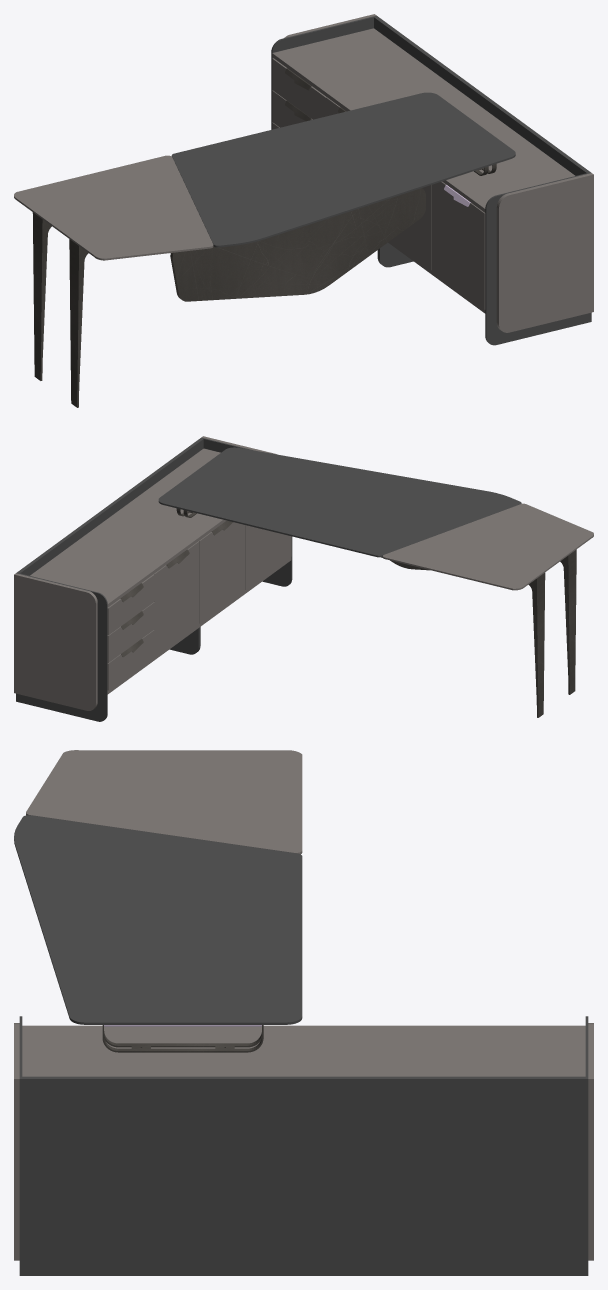
File: cortemasa3d.glb
3 views of the same model, one above another, from view 1: azimuth 30°, elevation 25°; view 2: azimuth 150°, elevation 25°; view 3: azimuth 270°, elevation 25° (orthographic). The views are drawn at different scales.
Visible parts, largest first — view 1: Componen48, Componen42, Componen03, Componen32, Componen47, Componen08, Componen04, Componen02, Componen37, Componen40, Componen31, Componen10 (+3 smaller); view 2: Componen48, Componen32, Componen01, Componen47, Componen10, Componen09, Componen04, Component_, Componen08, Componen37, Componen40, Componen31 (+5 smaller); view 3: Componen04, Componen48, Componen32, Componen47, Componen35, Componen03, Componen01, Component_, Componen02.
Part boxes in pixels (box(x1,y1,x2,y2)): Componen48: box(171, 92, 515, 247); Componen42: box(170, 188, 425, 301); Componen03: box(496, 173, 593, 332); Componen32: box(272, 28, 575, 212); Componen47: box(14, 155, 213, 260); Componen08: box(431, 181, 485, 309); Componen04: box(374, 16, 590, 175); Componen02: box(485, 172, 591, 345); Componen37: box(69, 239, 80, 407); Componen40: box(32, 212, 44, 380); Componen31: box(272, 58, 326, 119); Componen10: box(391, 185, 431, 270); Componen48: box(158, 447, 521, 557); Componen32: box(30, 448, 226, 607); Componen01: box(14, 573, 97, 710); Componen47: box(383, 503, 593, 590); Componen10: box(199, 522, 245, 623); Componen09: box(154, 541, 199, 656); Componen04: box(17, 438, 203, 575); Component_: box(16, 572, 107, 721); Componen08: box(245, 525, 291, 589); Componen37: box(567, 549, 576, 694); Componen40: box(535, 572, 545, 717); Componen31: box(107, 574, 154, 635); Componen04: box(22, 1076, 585, 1275); Componen48: box(14, 815, 302, 1024); Componen32: box(22, 1025, 585, 1076); Componen47: box(26, 750, 302, 854); Componen35: box(102, 1025, 263, 1052); Componen03: box(14, 1023, 19, 1260); Componen01: box(588, 1023, 593, 1260); Component_: box(585, 1016, 588, 1275); Componen02: box(19, 1016, 22, 1275).
Size of the model in its own units: 2.25 by 0.751 by 1.8.
Materials: 6 (1 with a texture image).
